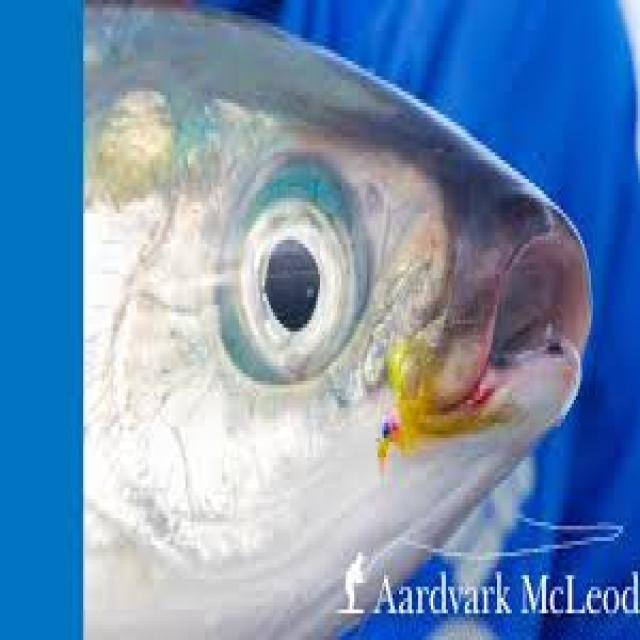Bangus: (71, 0, 640, 640)
